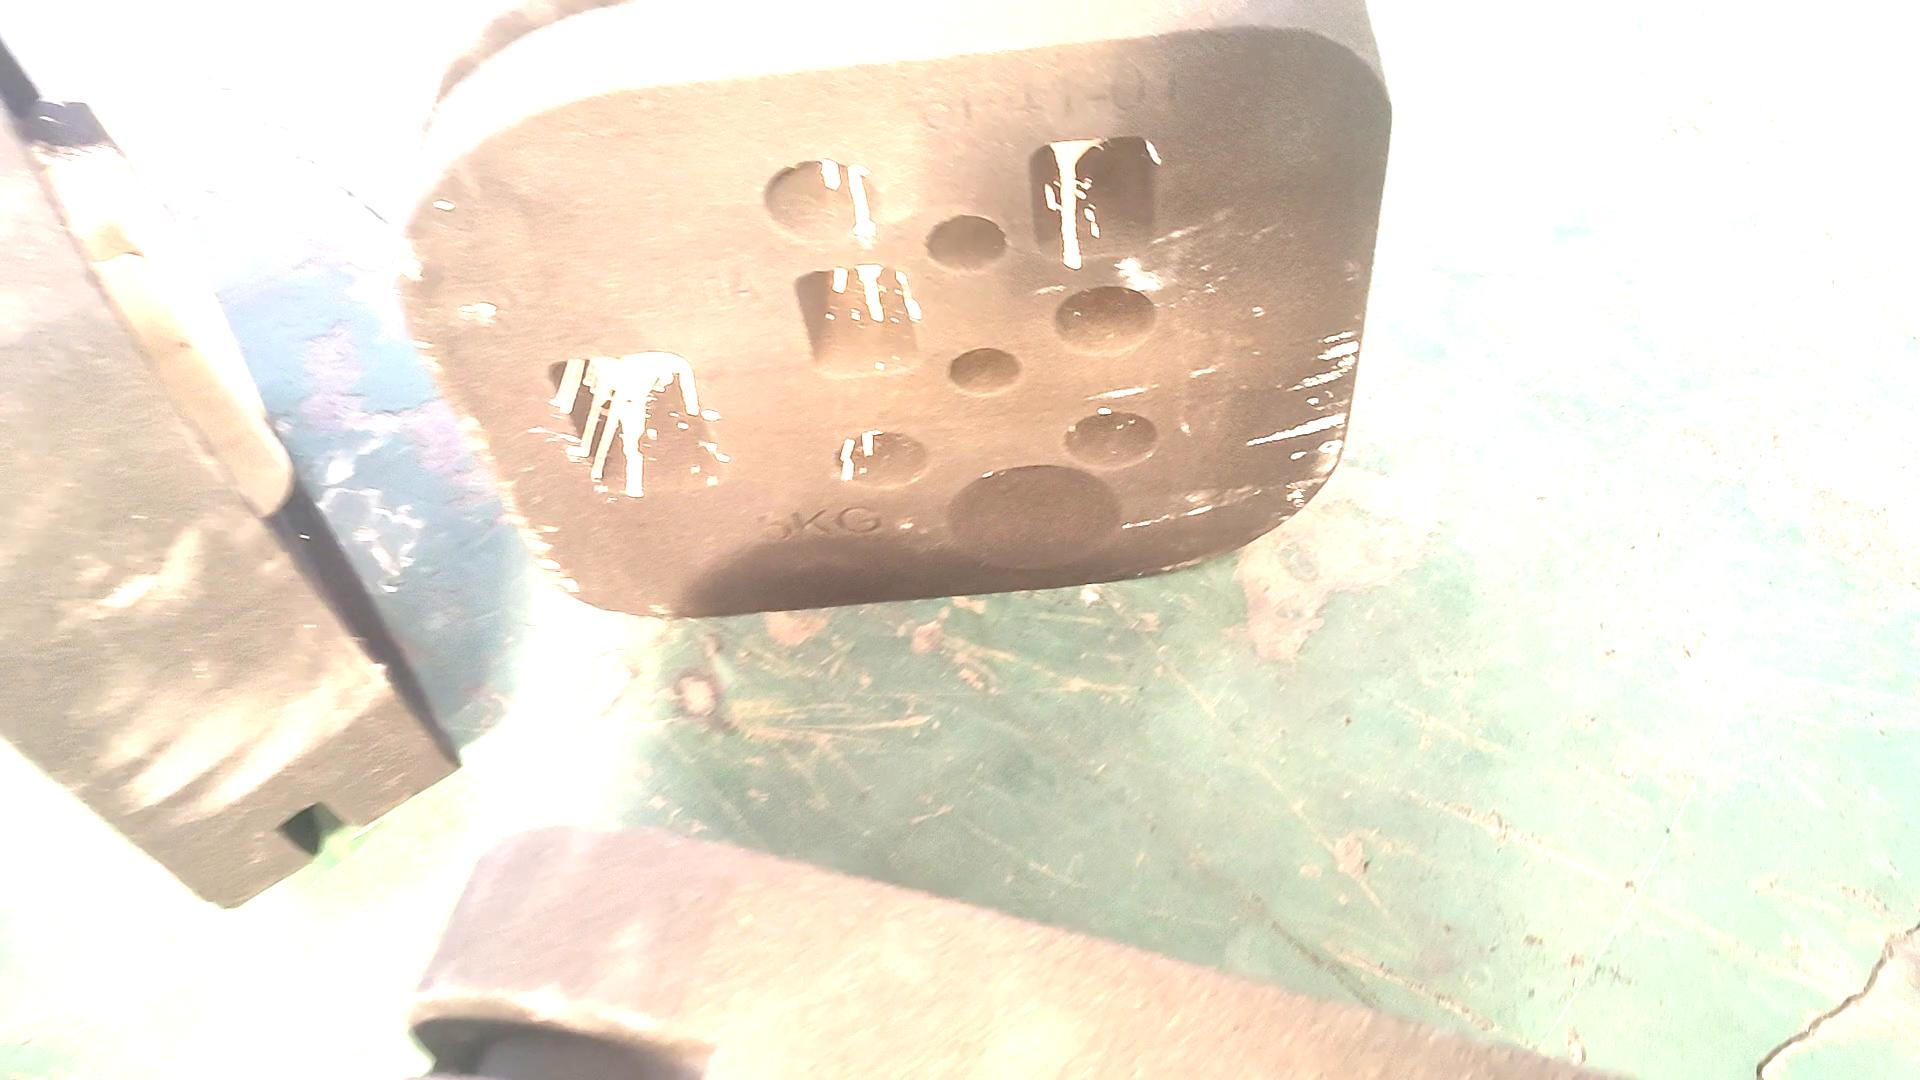pouring hole: (945, 462, 1121, 572)
